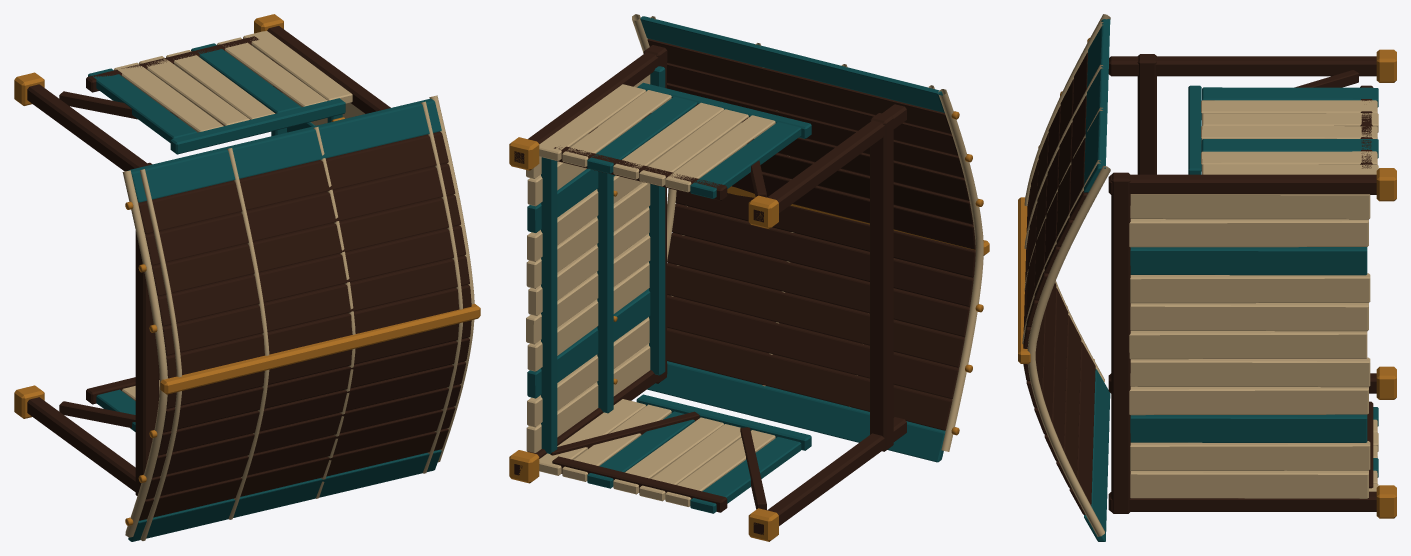
File: SM_LT_TraderHub_Structure.obj
3 renders of one model, left to right at view 1: azimuth 30°, elevation 25°; view 2: azimuth 150°, elevation 25°; view 3: azimuth 270°, elevation 25°, orthographic.
Visible parts, largest first — view 1: SM_LT_TraderHub_Structure_EXPORT; view 2: SM_LT_TraderHub_Structure_EXPORT; view 3: SM_LT_TraderHub_Structure_EXPORT.
Part boxes in pixels (x1,y1,x2,y2): SM_LT_TraderHub_Structure_EXPORT: (14,14,480,541); SM_LT_TraderHub_Structure_EXPORT: (509,14,989,541); SM_LT_TraderHub_Structure_EXPORT: (1018,14,1396,541).
Size of the model in its own units: 666 by 742 by 676.
